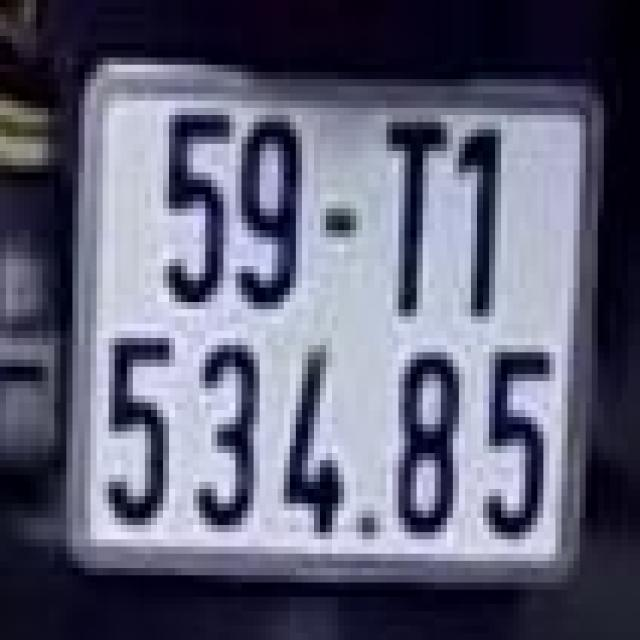1: (453, 108, 513, 331)
3: (184, 327, 269, 543)
4: (281, 327, 353, 550)
5: (82, 320, 178, 543), (148, 94, 232, 316), (483, 331, 568, 539)
8: (389, 338, 474, 546)
9: (238, 108, 317, 316)
T: (365, 108, 444, 323)
